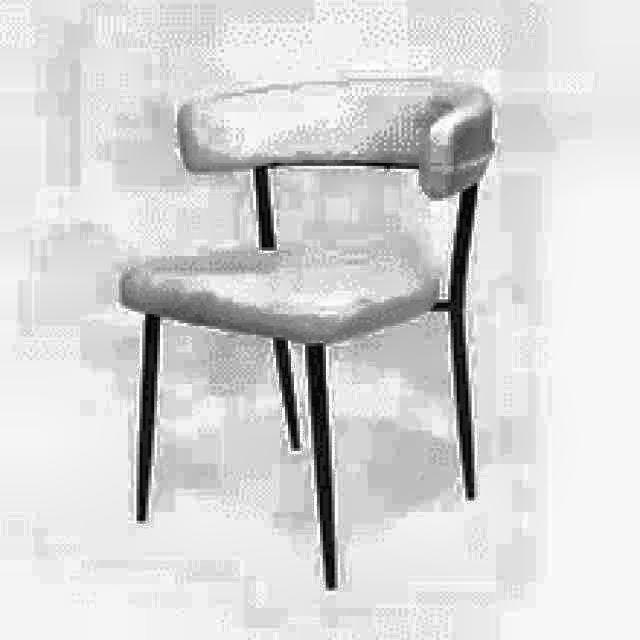cadeira: (112, 69, 498, 591), (124, 81, 488, 342)
